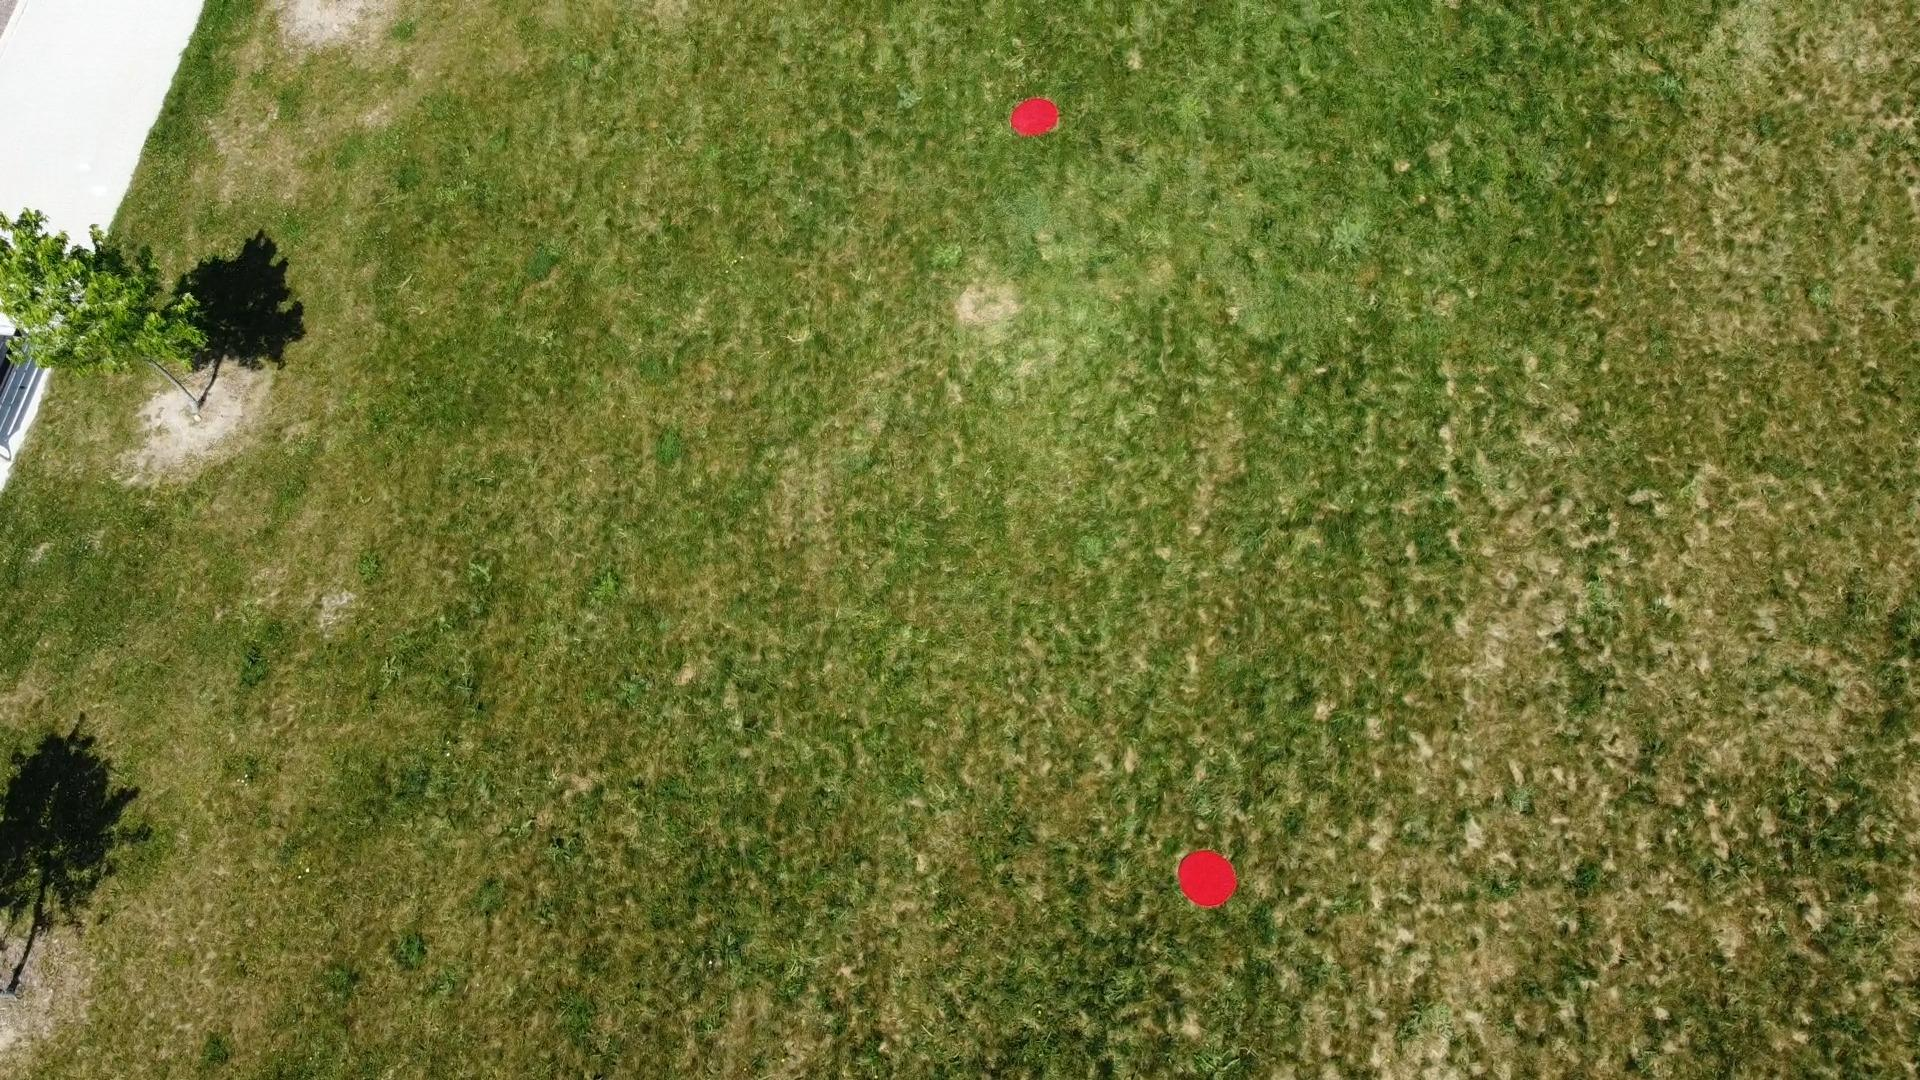Red: (1176, 849, 1238, 907), (1009, 96, 1060, 138)
